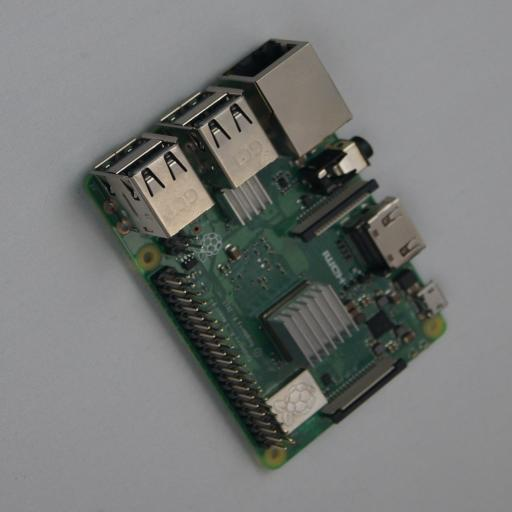Raspberry Pi 3 B-: (75, 39, 445, 469)
